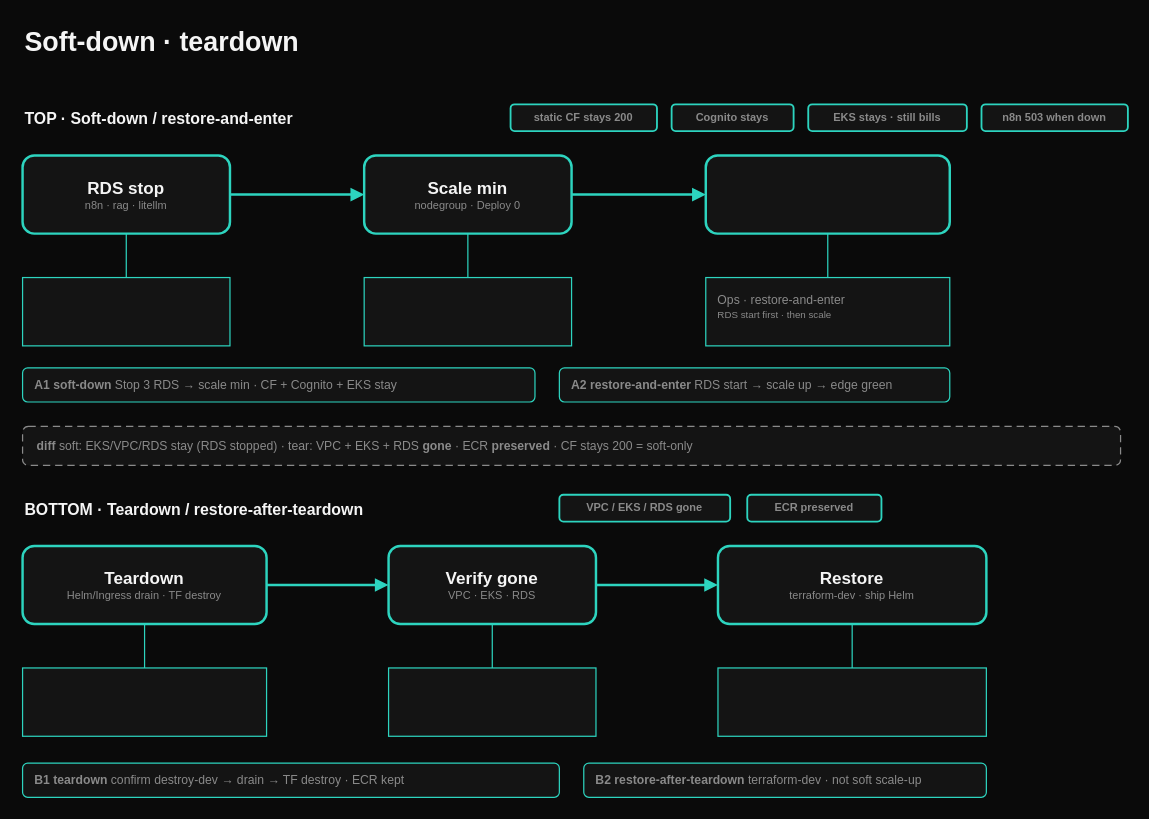
Some shapes in this 1149 by 819 pixel diagram are drawn without their labels. The shapes that lost their labels are listed below. From the top down, each one's box as (x1, y1, x2, y2) in pixels, then its label:
(704, 154, 950, 234): Restore RDS start → scale → edge
(21, 276, 230, 346): Ops · RDS stop 3 DBs · stopped not deleted
(363, 276, 572, 346): Ops · scale nodegroup min · ns Deploy 0
(21, 667, 267, 736): Ops · destroy-dev GHA confirm · drain · TF destroy
(387, 667, 596, 736): Ops · verify-dev-destroyed fail if VPC/EKS/RDS remain
(717, 667, 986, 736): Ops · terraform-dev apply bootstrap EKS · import ECR · ship
